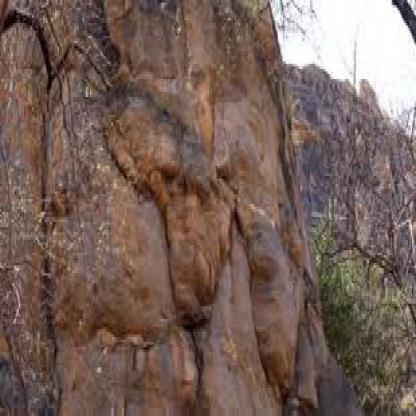Metamorphic_Quartize: (108, 82, 245, 329)
